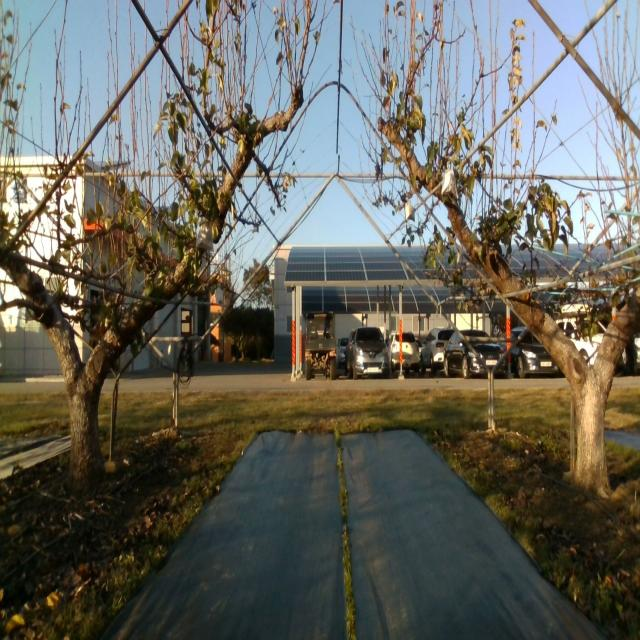pearbags: (196, 221, 214, 253), (441, 165, 458, 198)
